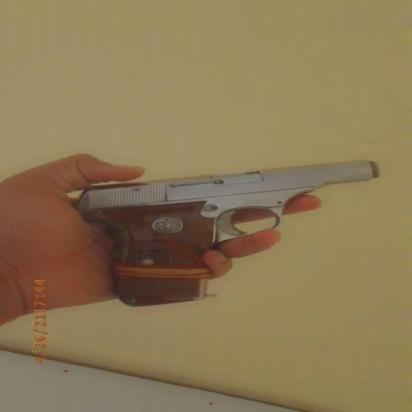Gun: (66, 152, 390, 310)
